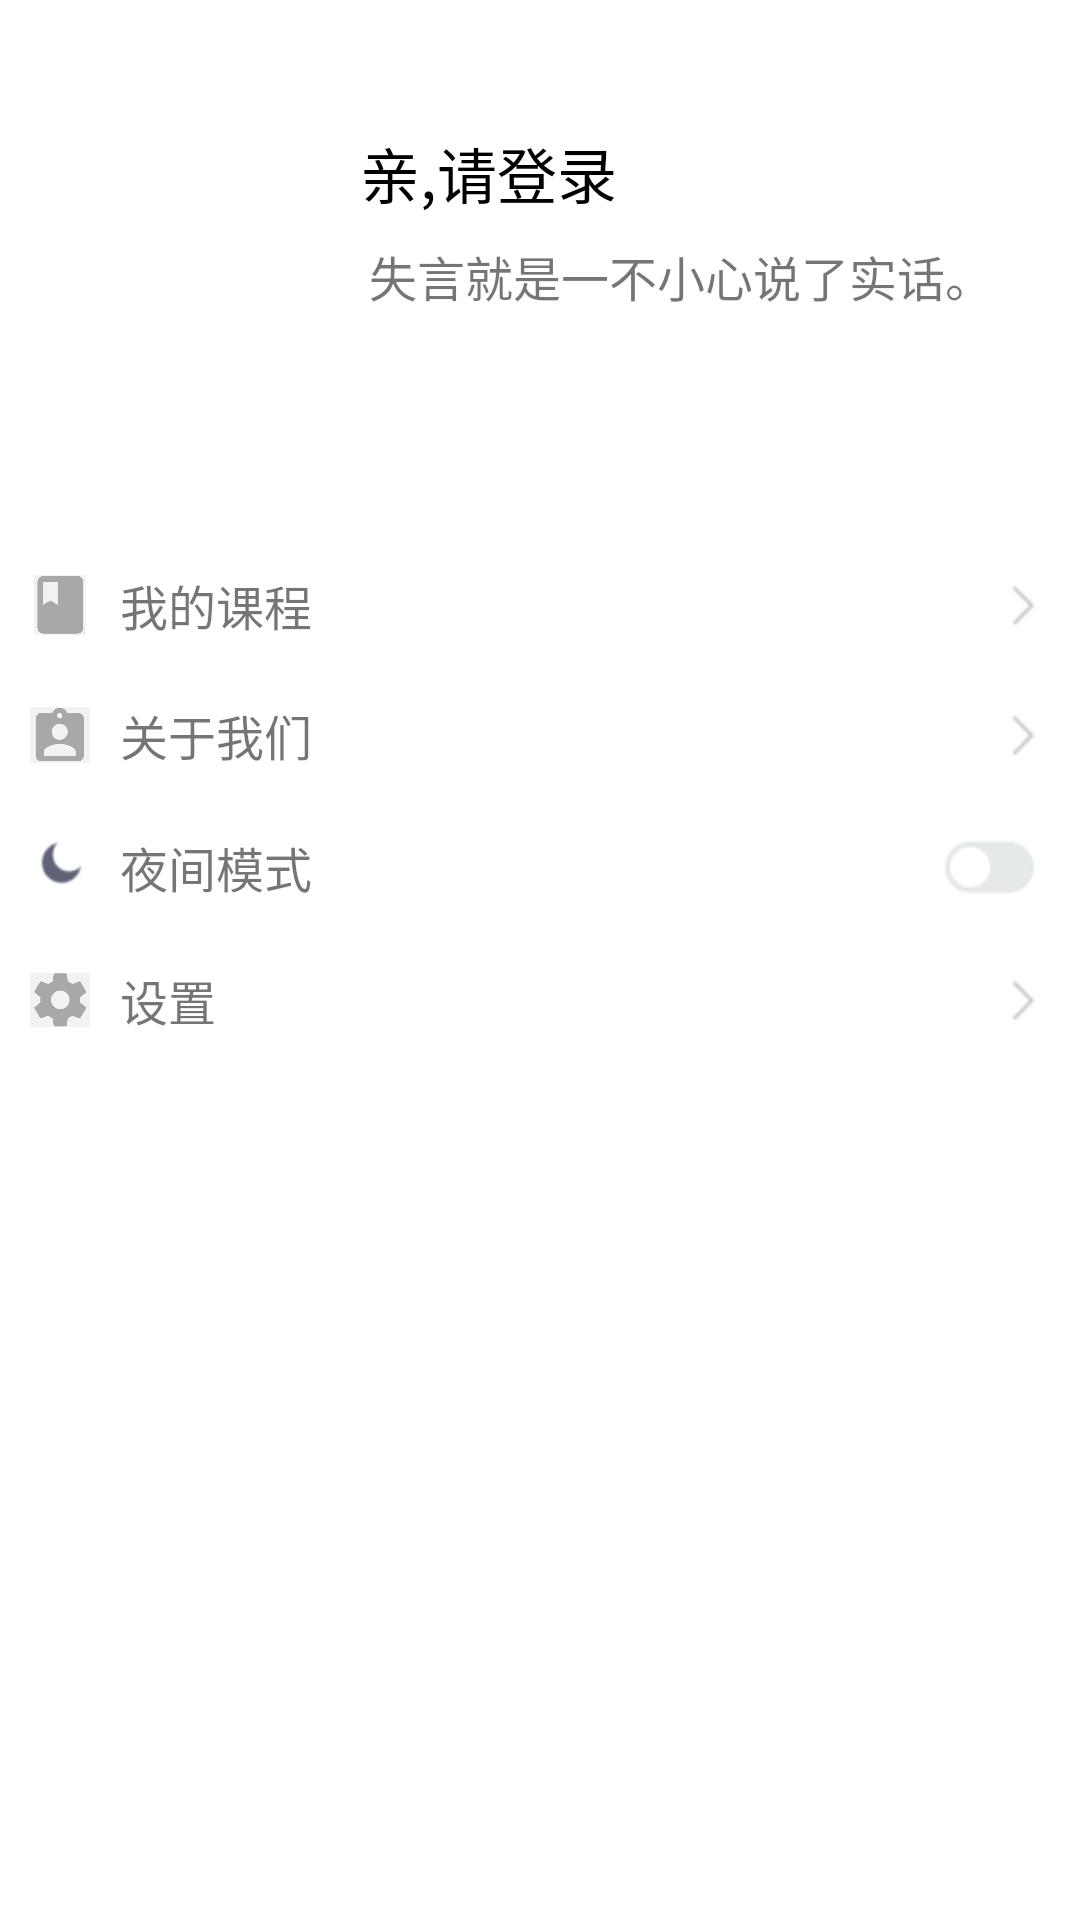

Icon bounding boxes for this 1080*1920 phone screenshot, format (x1, y1, x2, y2):
kecheng: (37, 576, 83, 634)
lianxiwom: (36, 708, 84, 761)
shezhi: (34, 973, 86, 1027)
yejianbtn: (947, 843, 1032, 891)
yejianmoshi: (41, 842, 82, 884)
youtubiao: (1013, 586, 1033, 624), (1013, 716, 1033, 754), (1013, 981, 1033, 1019)
